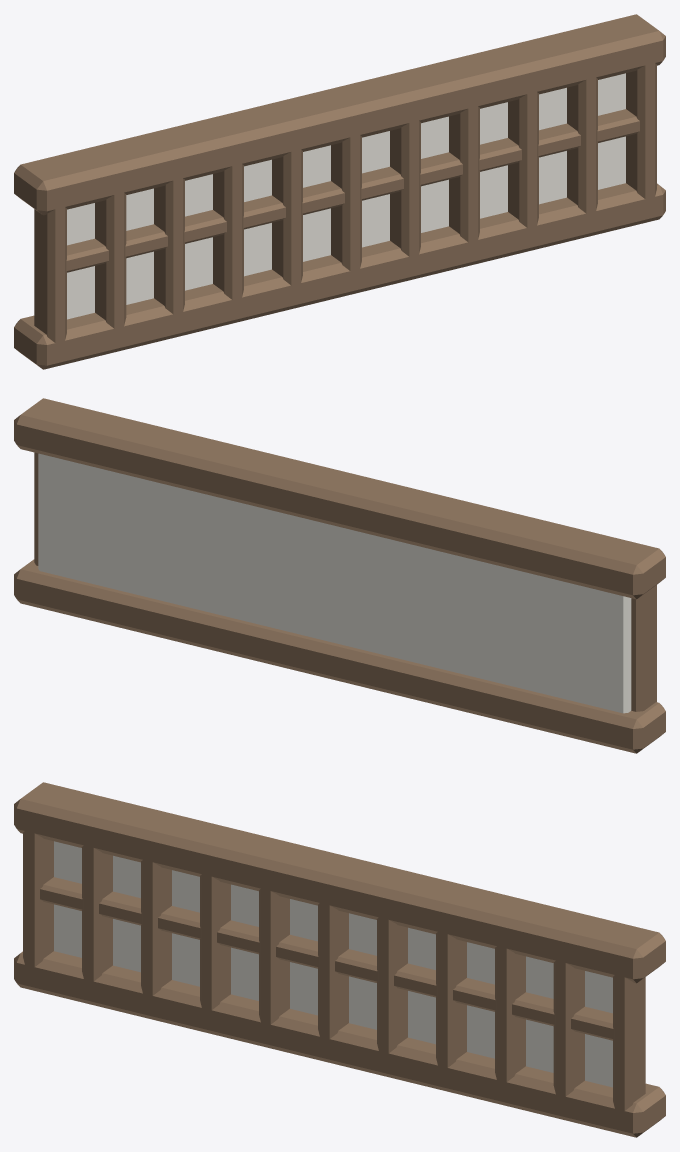
File: feudal-japan-castle-town-paper-transom-f5e0760b__26356.glb
The picture shows the model from 3 angles, top to bottom: view 1: azimuth 30°, elevation 25°; view 2: azimuth 150°, elevation 25°; view 3: azimuth 330°, elevation 25°; orthographic projection.
Parts seen in each view (by area): view 1: paper-transom; view 2: paper-transom; view 3: paper-transom.
Part boxes in pixels (x1,y1,x2,y2): paper-transom: (14, 14, 665, 369); paper-transom: (14, 398, 665, 753); paper-transom: (14, 782, 665, 1137).
Bounding box in the file's own units: 1.92 × 0.5499 × 0.1601.
